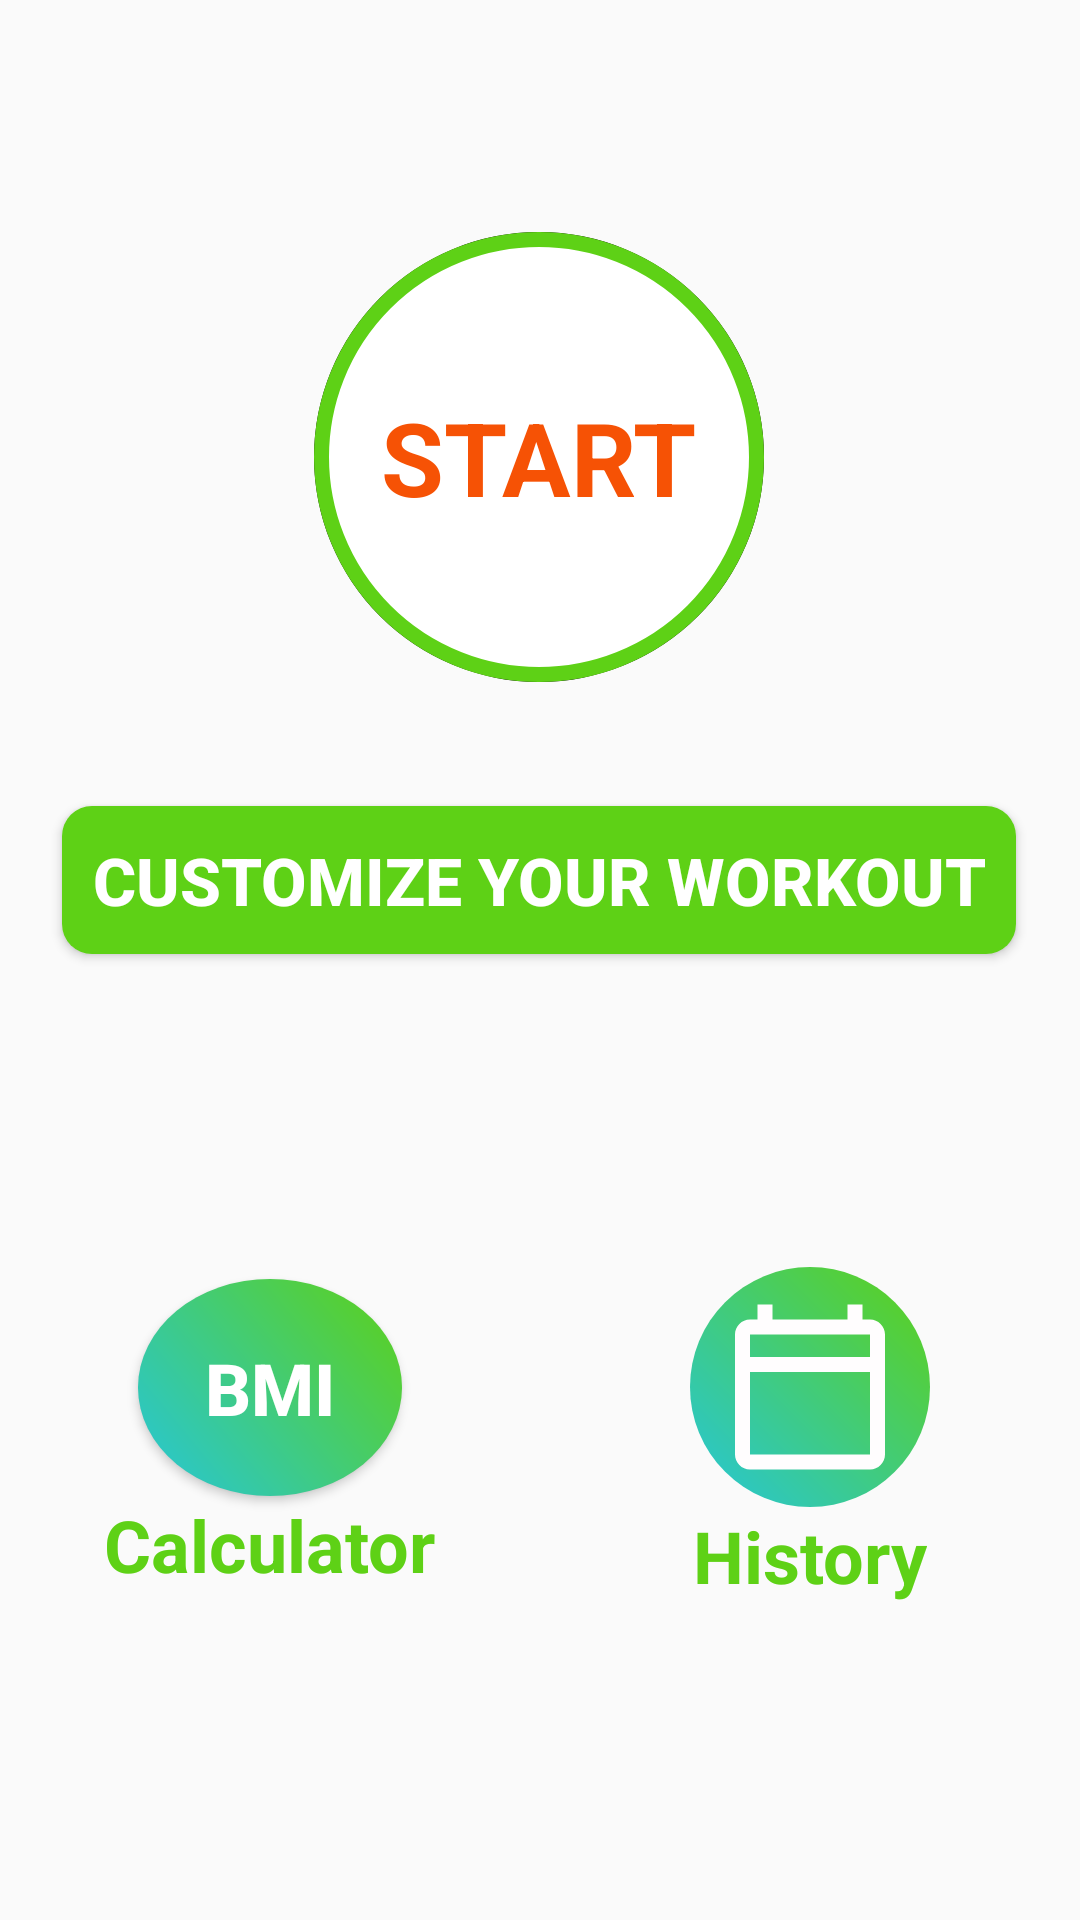

Named icons in this screenshot (1080x1920) and their centers, point (x, y):
cal: point (810, 1387)
